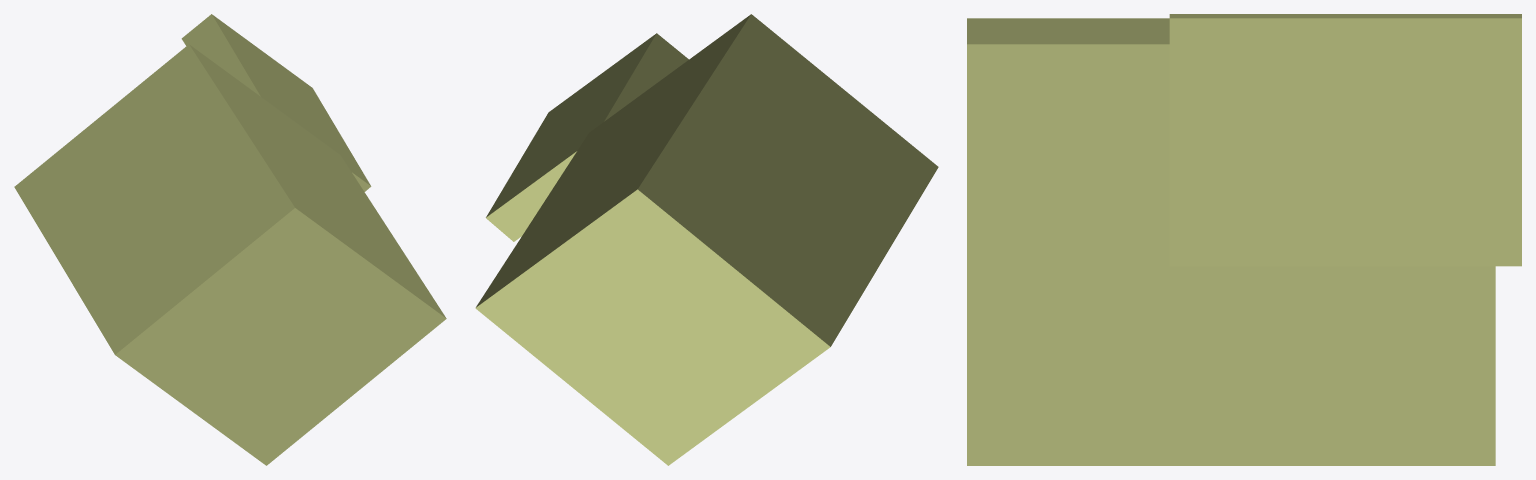
3 renders of one model, left to right at view 1: azimuth 30°, elevation 25°; view 2: azimuth 150°, elevation 25°; view 3: azimuth 270°, elevation 25°, orthographic. The views are drawn at different scales.
Parts seen in each view (by area): view 1: 0_1_1_3_2_2_3_0_2_1_1; view 2: 0_1_1_3_2_2_3_0_2_1_1; view 3: 0_1_1_3_2_2_3_0_2_1_1.
Part boxes in pixels (box(x1,y1,x2,y2)): 0_1_1_3_2_2_3_0_2_1_1: box(14, 14, 446, 465); 0_1_1_3_2_2_3_0_2_1_1: box(475, 14, 938, 465); 0_1_1_3_2_2_3_0_2_1_1: box(967, 14, 1521, 465).
Size of the model in its own units: 9.63 by 10.16 by 9.45.
